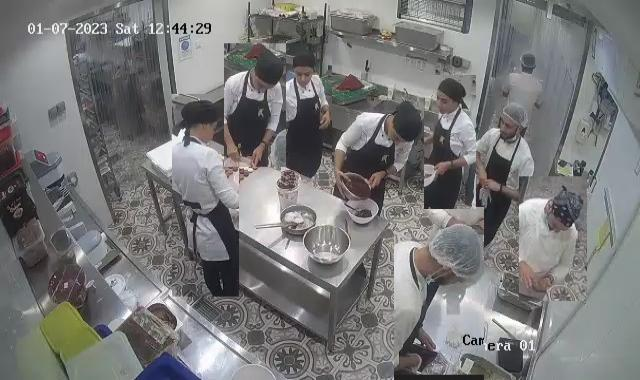hairnet: (426, 222, 484, 288), (496, 101, 528, 138)
no_hairnet: (544, 184, 584, 234), (388, 104, 422, 146), (181, 97, 222, 130), (250, 56, 284, 93), (434, 79, 463, 113), (292, 53, 316, 83)
